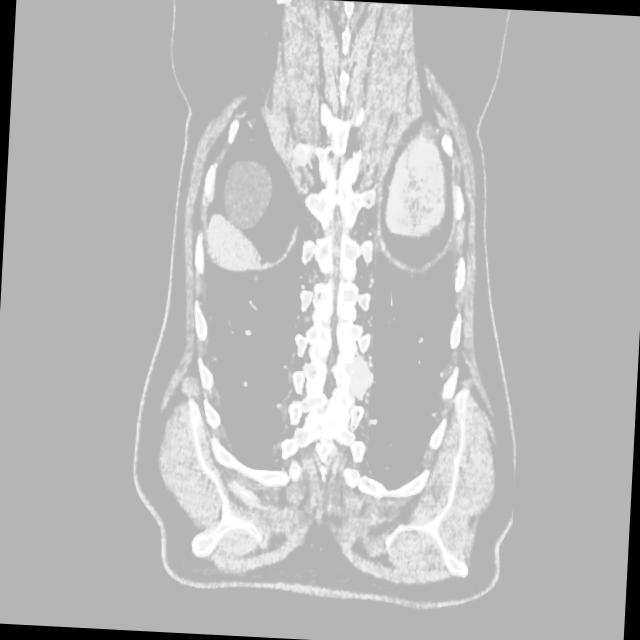TUMOR: (134, 64, 529, 344)
